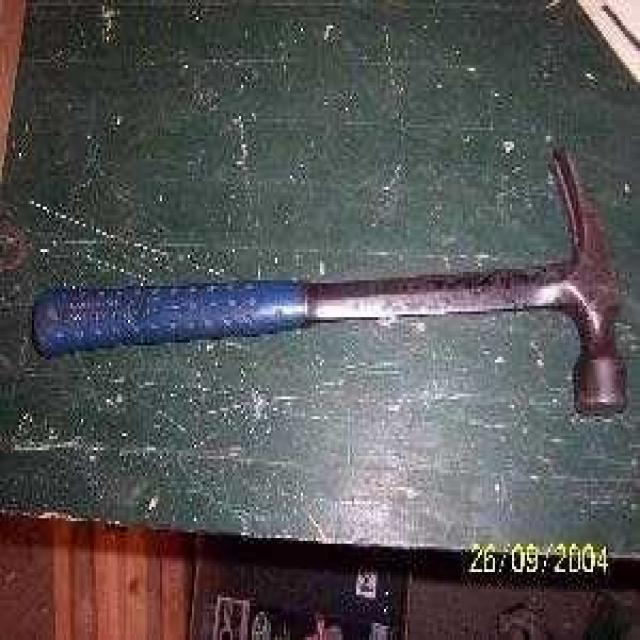hammer: (29, 156, 640, 444)
